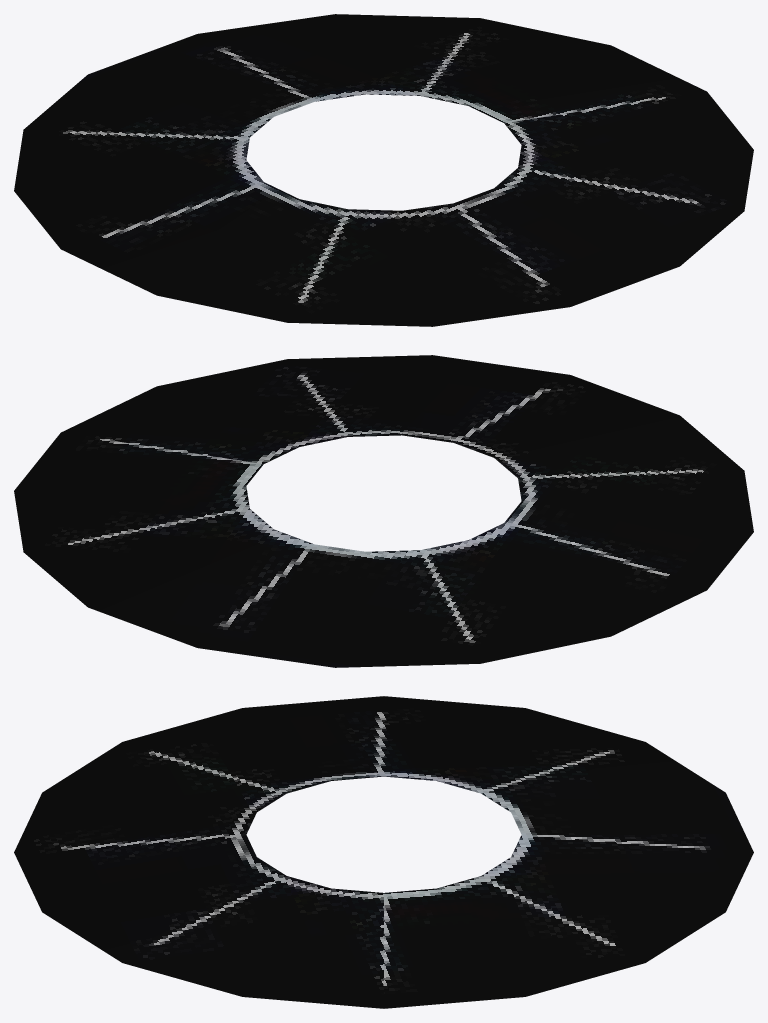
Rendered from BasePlateFull.glb.
3 renders of one model, top to bottom at view 1: azimuth 30°, elevation 25°; view 2: azimuth 150°, elevation 25°; view 3: azimuth 270°, elevation 25°, orthographic.
Visible parts, largest first — view 1: BasePlate; view 2: BasePlate; view 3: BasePlate.
Part boxes in pixels (left/top/right/bottom): BasePlate: left=14, top=14, right=753, bottom=326; BasePlate: left=14, top=355, right=753, bottom=667; BasePlate: left=14, top=696, right=753, bottom=1008.
Size of the model in its own units: 4.59 by 0.1213 by 4.59.
1 material, 1 textured.
